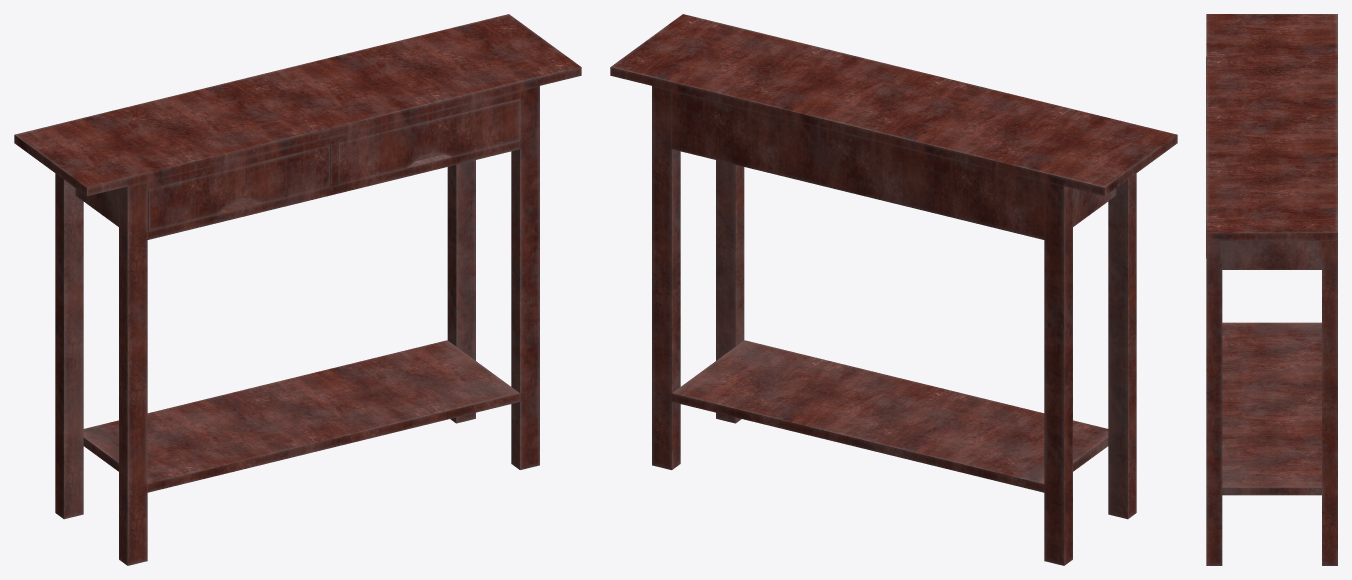
The picture shows the model from 3 angles, left to right: view 1: azimuth 30°, elevation 25°; view 2: azimuth 150°, elevation 25°; view 3: azimuth 270°, elevation 25°; orthographic projection. The views are drawn at different scales.
Visible parts, largest first — view 1: Object_2; view 2: Object_2; view 3: Object_2.
Part boxes in pixels (x1=…): Object_2: x1=14, y1=14, x2=581, y2=565; Object_2: x1=610, y1=14, x2=1177, y2=565; Object_2: x1=1206, y1=14, x2=1337, y2=565.
Bounding box in the file's own units: 120 × 90 × 30.58.
Materials: 1 (1 with a texture image).
